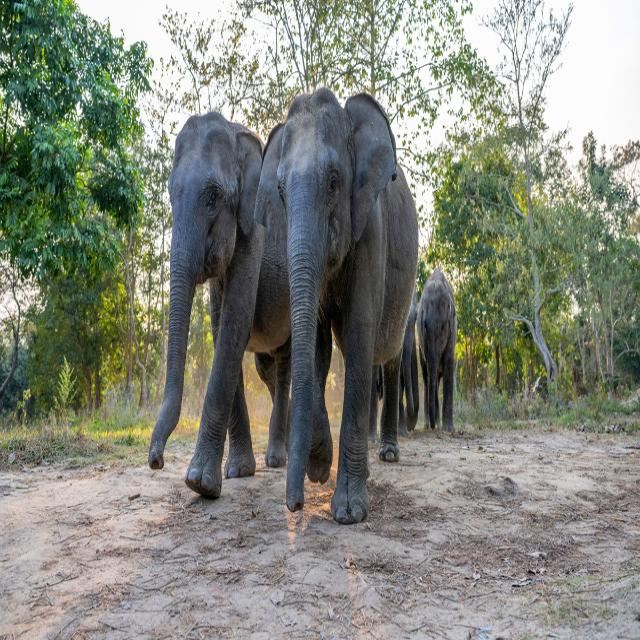Elephant: (259, 87, 413, 528), (147, 109, 266, 521), (415, 251, 462, 441)
